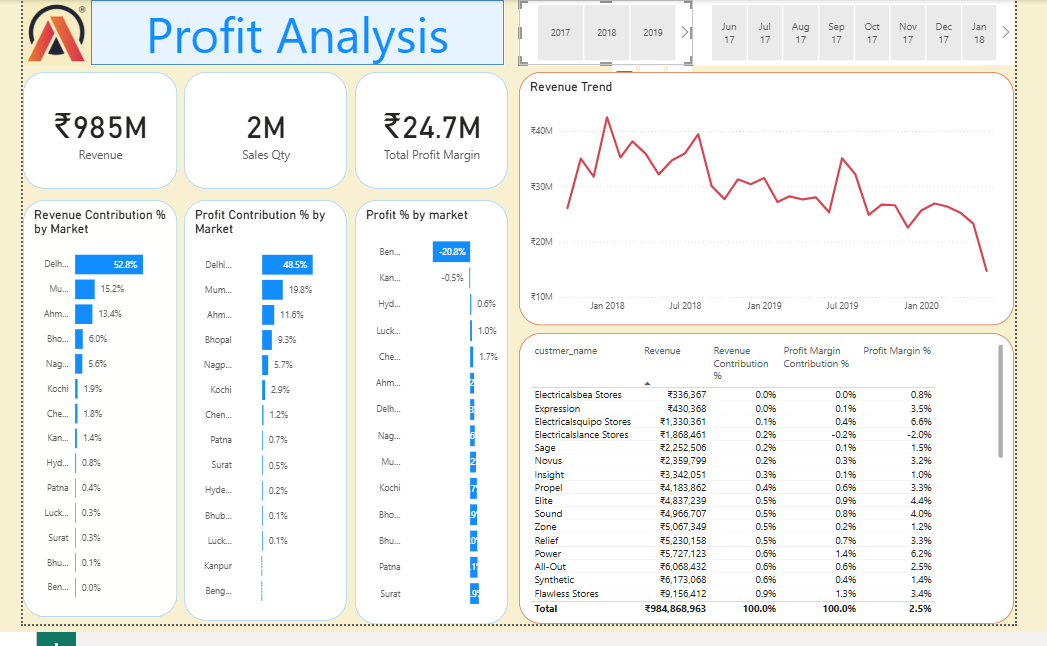

What the dashboard file says about the page in this screenshot:
{"tool":"powerbi","page":{"name":"Profit Analysis","canvas":[1350,850],"ordinal":0},"visuals":[{"type":"card","fields":{"Values":["BaseMeasures (2).Revenue"]},"box":[0,98.1,209.8,159.4],"z":0},{"type":"card","fields":{"Values":["BaseMeasures (2).Sales Qty"]},"box":[219.3,98.1,222,159.4],"z":1000},{"type":"barChart","title":"Profit % by market","fields":{"Y":["BaseMeasures (2).Profit Margin %"],"Category":["sales markets.markets_name"]},"box":[452.2,272.4,208.4,577.6],"z":2000},{"type":"barChart","title":"Profit Contribution % by Market","fields":{"Y":["BaseMeasures (2).Profit Margin Contribution %"],"Category":["sales markets.markets_name"]},"box":[219.3,272.4,222,573.5],"z":3000},{"type":"slicer","fields":{"Values":["sales date.year"]},"box":[675.6,0,237,88.5],"z":4000},{"type":"slicer","fields":{"Values":["sales date.cy_date"]},"box":[912.7,0,437.3,88.5],"z":5000},{"type":"tableEx","title":"Top 5 Customers","fields":{"Values":["sales customers.custmer_name","BaseMeasures (2).Revenue","BaseMeasures (2).Revenue Contribution %","BaseMeasures (2).Profit Margin Contribution %","BaseMeasures (2).Profit Margin %"]},"box":[675.6,453.6,674.3,396.4],"z":6000},{"type":"lineChart","title":"Revenue Trend","fields":{"Y":["BaseMeasures (2).Revenue"],"Category":["sales date.cy_date"]},"box":[675.6,98.1,674.3,344.6],"z":7000},{"type":"card","fields":{"Values":["BaseMeasures (2).Total Profit Margin"]},"box":[452.2,98.1,208.4,159.4],"z":8000},{"type":"barChart","title":"Revenue Contribution % by Market","fields":{"Y":["BaseMeasures (2).Revenue Contribution %"],"Category":["sales markets.markets_name"]},"box":[0,272.4,209.8,568],"z":9000},{"type":"image","box":[0,0,92.6,88.5],"z":9001},{"type":"shape","box":[92.6,0,562.6,88.5],"z":9002}]}

Visuals, with their boxes in screenshot pixels (x1, y1, x2, y2), scaled from the page's 1350x850 canvas onto the 1047x646 screenshot:
card - BaseMeasures (2).Revenue: (x1=0, y1=75, x2=163, y2=196)
card - BaseMeasures (2).Sales Qty: (x1=170, y1=75, x2=342, y2=196)
"Profit % by market" barChart: (x1=351, y1=207, x2=512, y2=645)
"Profit Contribution % by Market" barChart: (x1=170, y1=207, x2=342, y2=643)
slicer - sales date.year: (x1=524, y1=0, x2=708, y2=67)
slicer - sales date.cy_date: (x1=708, y1=0, x2=1046, y2=67)
"Top 5 Customers" tableEx: (x1=524, y1=345, x2=1046, y2=645)
"Revenue Trend" lineChart: (x1=524, y1=75, x2=1046, y2=336)
card - BaseMeasures (2).Total Profit Margin: (x1=351, y1=75, x2=512, y2=196)
"Revenue Contribution % by Market" barChart: (x1=0, y1=207, x2=163, y2=639)
image: (x1=0, y1=0, x2=72, y2=67)
shape: (x1=72, y1=0, x2=508, y2=67)
